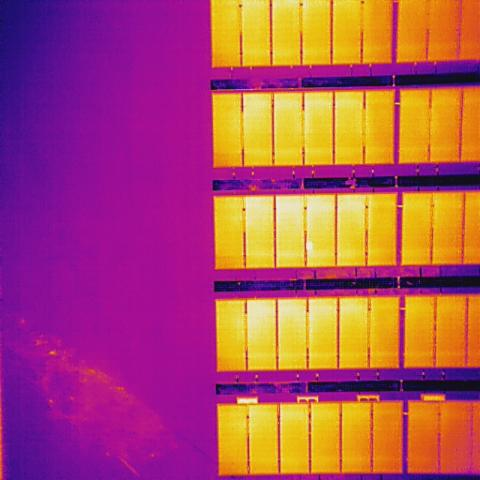fault: (305, 239, 314, 252)
